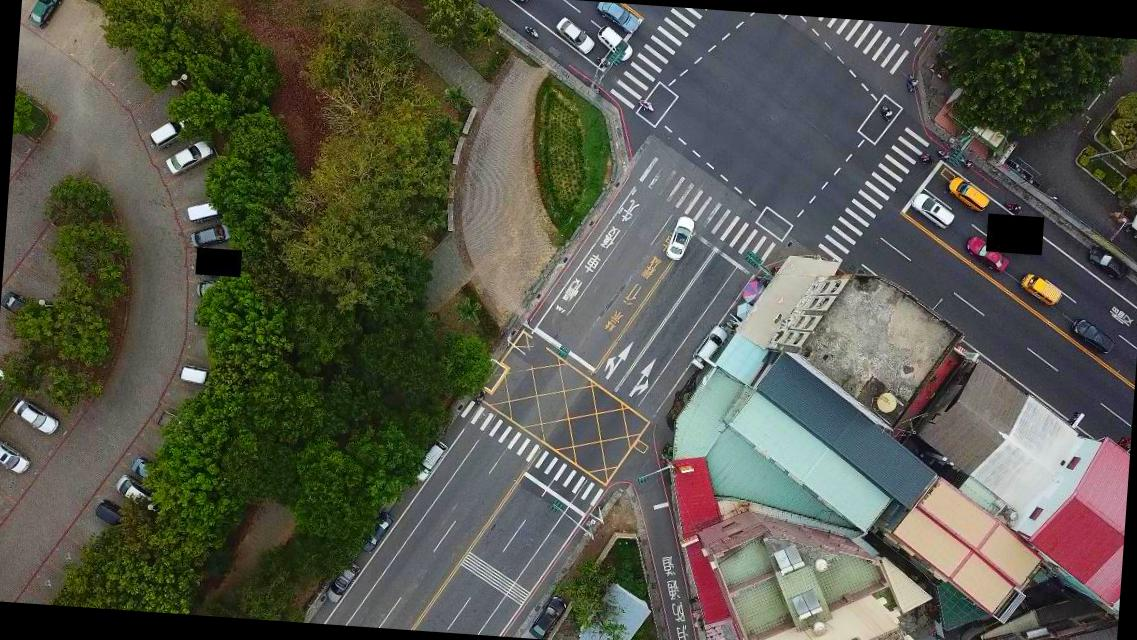vehicle: (163, 136, 212, 178), (962, 234, 1012, 272), (11, 398, 61, 436), (1070, 316, 1119, 354), (527, 593, 567, 639), (691, 322, 729, 370), (910, 190, 955, 230), (946, 174, 993, 212), (117, 475, 163, 513), (412, 438, 451, 482), (554, 16, 596, 56), (596, 22, 636, 64), (324, 559, 361, 604), (1020, 272, 1066, 306), (359, 509, 393, 555), (148, 111, 190, 148), (664, 212, 696, 260), (594, 1, 642, 33), (1084, 247, 1130, 280), (1, 294, 44, 326), (189, 222, 233, 252), (0, 437, 32, 477), (25, 0, 65, 29), (176, 362, 213, 388), (93, 500, 126, 528), (184, 200, 222, 224), (128, 456, 162, 482)
